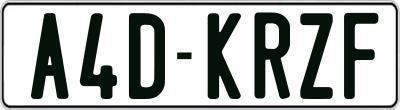4: (78, 11, 115, 100)
A: (29, 12, 71, 102)
D: (128, 11, 170, 102)
F: (343, 13, 383, 102)
K: (206, 10, 245, 102)
R: (255, 10, 291, 98)
Z: (299, 10, 335, 100)
